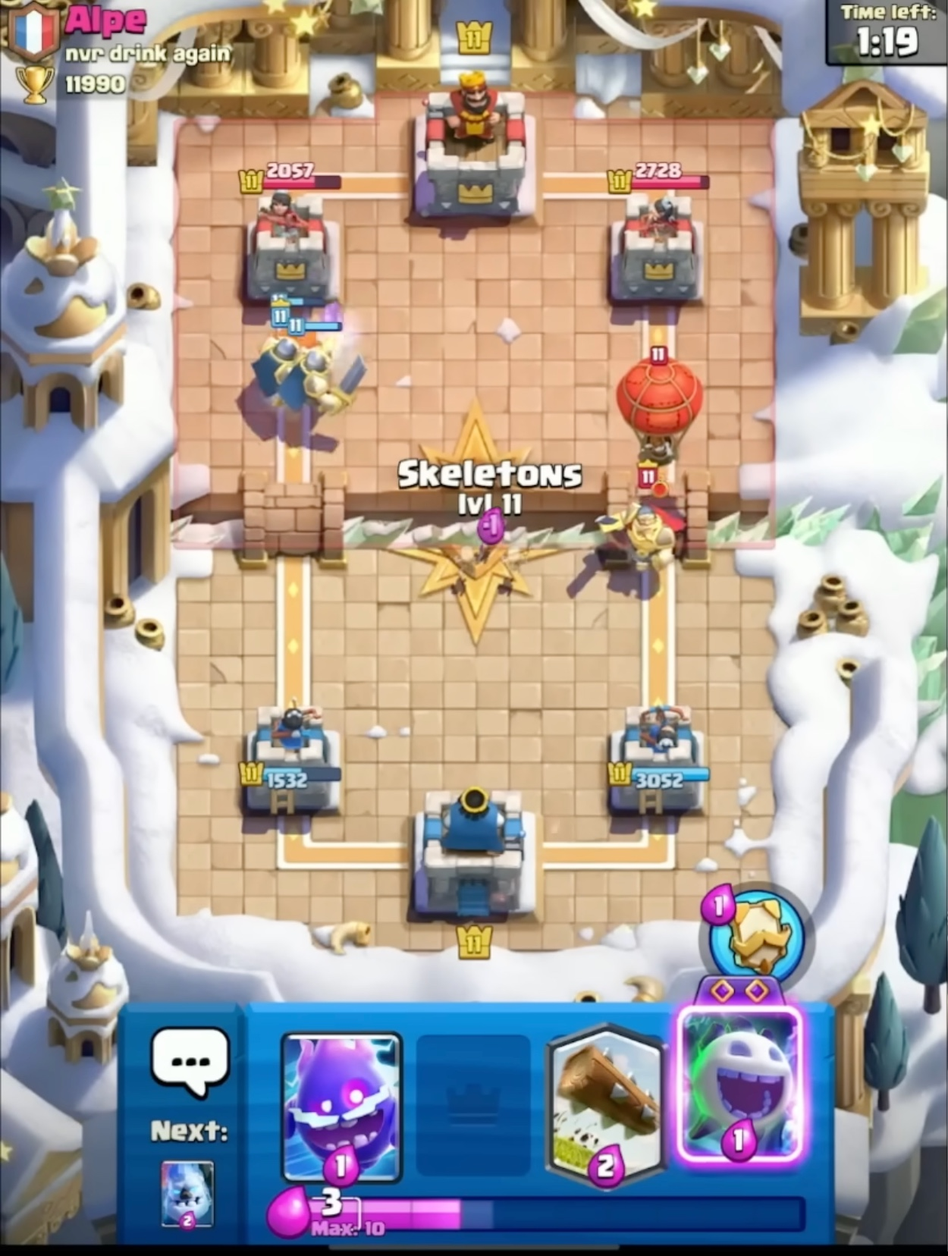balloon: (610, 340, 716, 469)
hero-knight: (592, 459, 702, 596)
